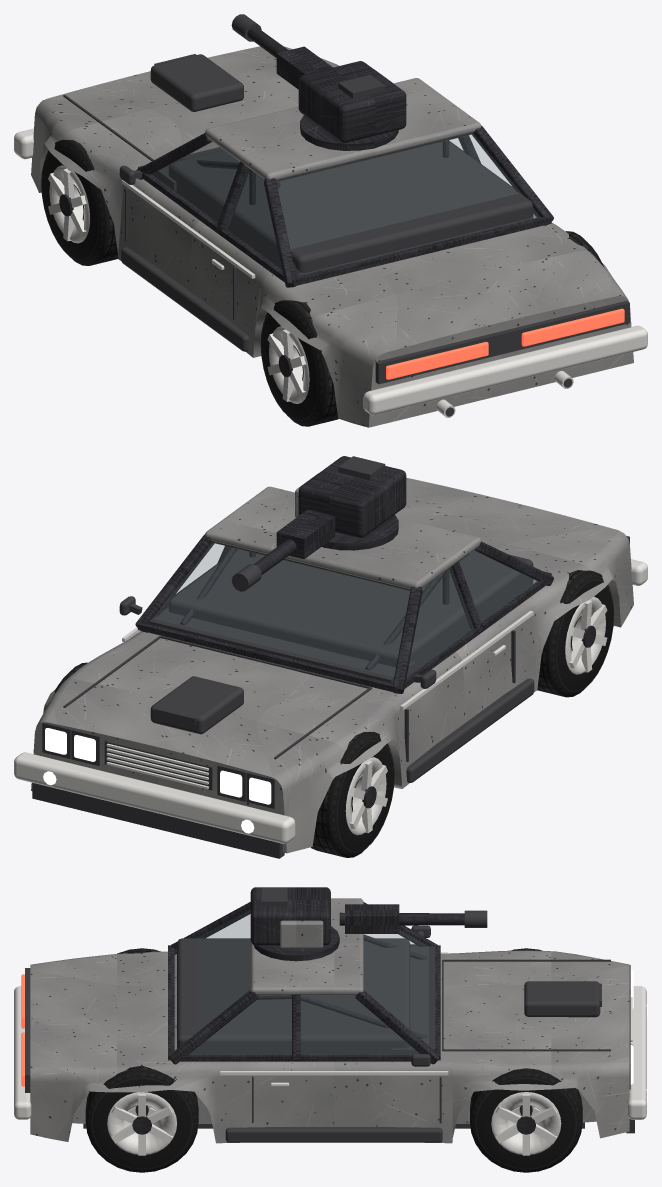
Rendered from player_muscle.glb.
3 renders of one model, top to bottom at view 1: azimuth 30°, elevation 25°; view 2: azimuth 150°, elevation 25°; view 3: azimuth 270°, elevation 25°, orthographic. The views are drawn at different scales.
Parts seen in each view (by area): view 1: breakline_interceptor_Body, Turret, Wheel_RL, Wheel_FL, Barrel; view 2: breakline_interceptor_Body, Turret, Wheel_FL, Wheel_RL, Barrel; view 3: breakline_interceptor_Body, Wheel_RR, Wheel_FR, Turret, Barrel.
Boxes of the visible parts, left/top/right/bottom form: breakline_interceptor_Body: left=14, top=46, right=647, bottom=427; Turret: left=298, top=61, right=406, bottom=150; Wheel_RL: left=260, top=300, right=338, bottom=426; Wheel_FL: left=41, top=139, right=117, bottom=265; Barrel: left=231, top=14, right=332, bottom=89; breakline_interceptor_Body: left=14, top=477, right=647, bottom=858; Turret: left=295, top=456, right=406, bottom=550; Wheel_FL: left=311, top=732, right=394, bottom=857; Wheel_RL: left=537, top=570, right=614, bottom=697; Barrel: left=231, top=509, right=335, bottom=591; breakline_interceptor_Body: left=14, top=898, right=647, bottom=1143; Wheel_RR: left=85, top=1065, right=198, bottom=1172; Wheel_FR: left=470, top=1068, right=582, bottom=1172; Turret: left=250, top=887, right=339, bottom=961; Barrel: left=339, top=904, right=487, bottom=933.
Size of what is drawn, in the model's own units: 2.88 by 2.21 by 5.84.
8 materials, 3 textured.
